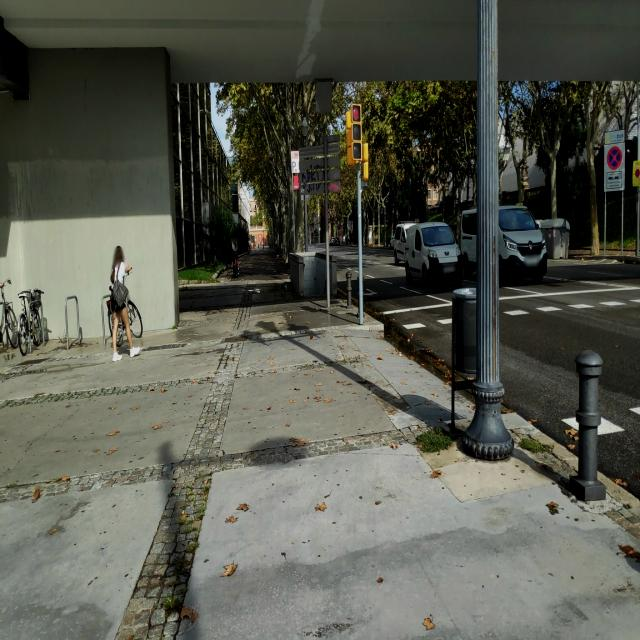bike: (16, 286, 48, 352)
car: (461, 202, 548, 284), (404, 220, 464, 288), (458, 208, 477, 279), (393, 221, 410, 266)
